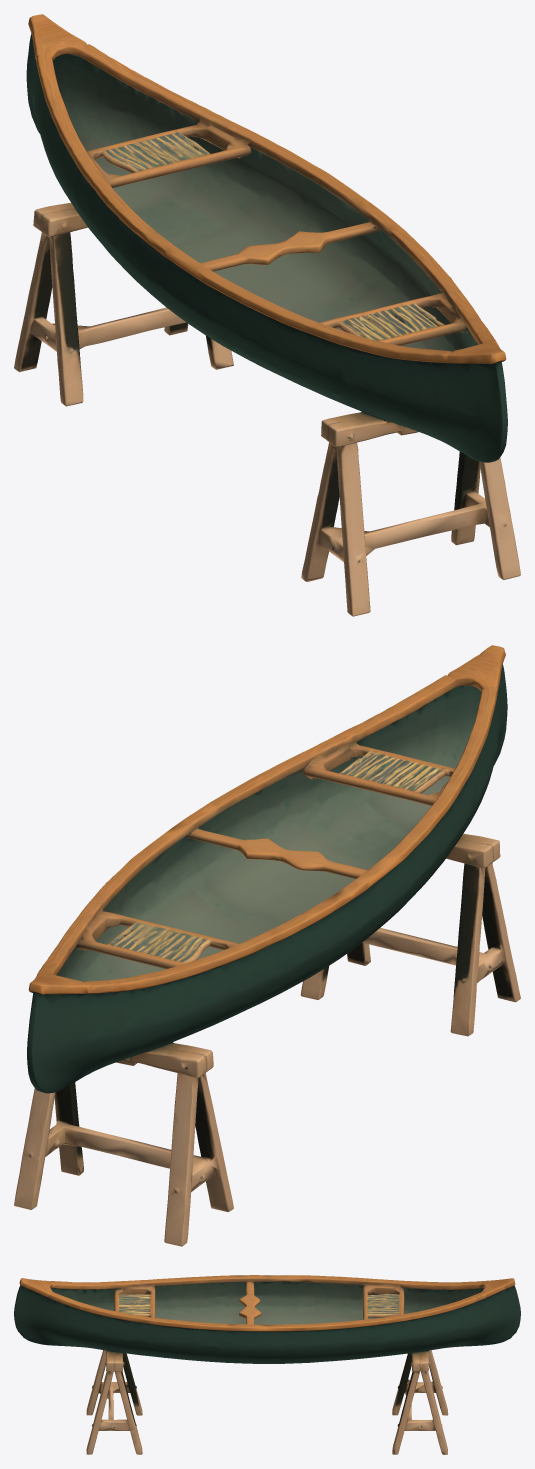
The model's file is canoe.glb.
3 renders of one model, top to bottom at view 1: azimuth 30°, elevation 25°; view 2: azimuth 150°, elevation 25°; view 3: azimuth 270°, elevation 25°, orthographic. The views are drawn at different scales.
Parts seen in each view (by area): view 1: tripo_node_f77be4de-b42a-46f0-bebe-01f0737b0738; view 2: tripo_node_f77be4de-b42a-46f0-bebe-01f0737b0738; view 3: tripo_node_f77be4de-b42a-46f0-bebe-01f0737b0738.
Part boxes in pixels (x1,y1,x2,y2): tripo_node_f77be4de-b42a-46f0-bebe-01f0737b0738: [14, 14, 520, 616]; tripo_node_f77be4de-b42a-46f0-bebe-01f0737b0738: [14, 645, 520, 1246]; tripo_node_f77be4de-b42a-46f0-bebe-01f0737b0738: [14, 1275, 520, 1454].
Bounding box in the file's own units: 1.36 × 1.8 × 5.38.
1 material, 1 textured.
